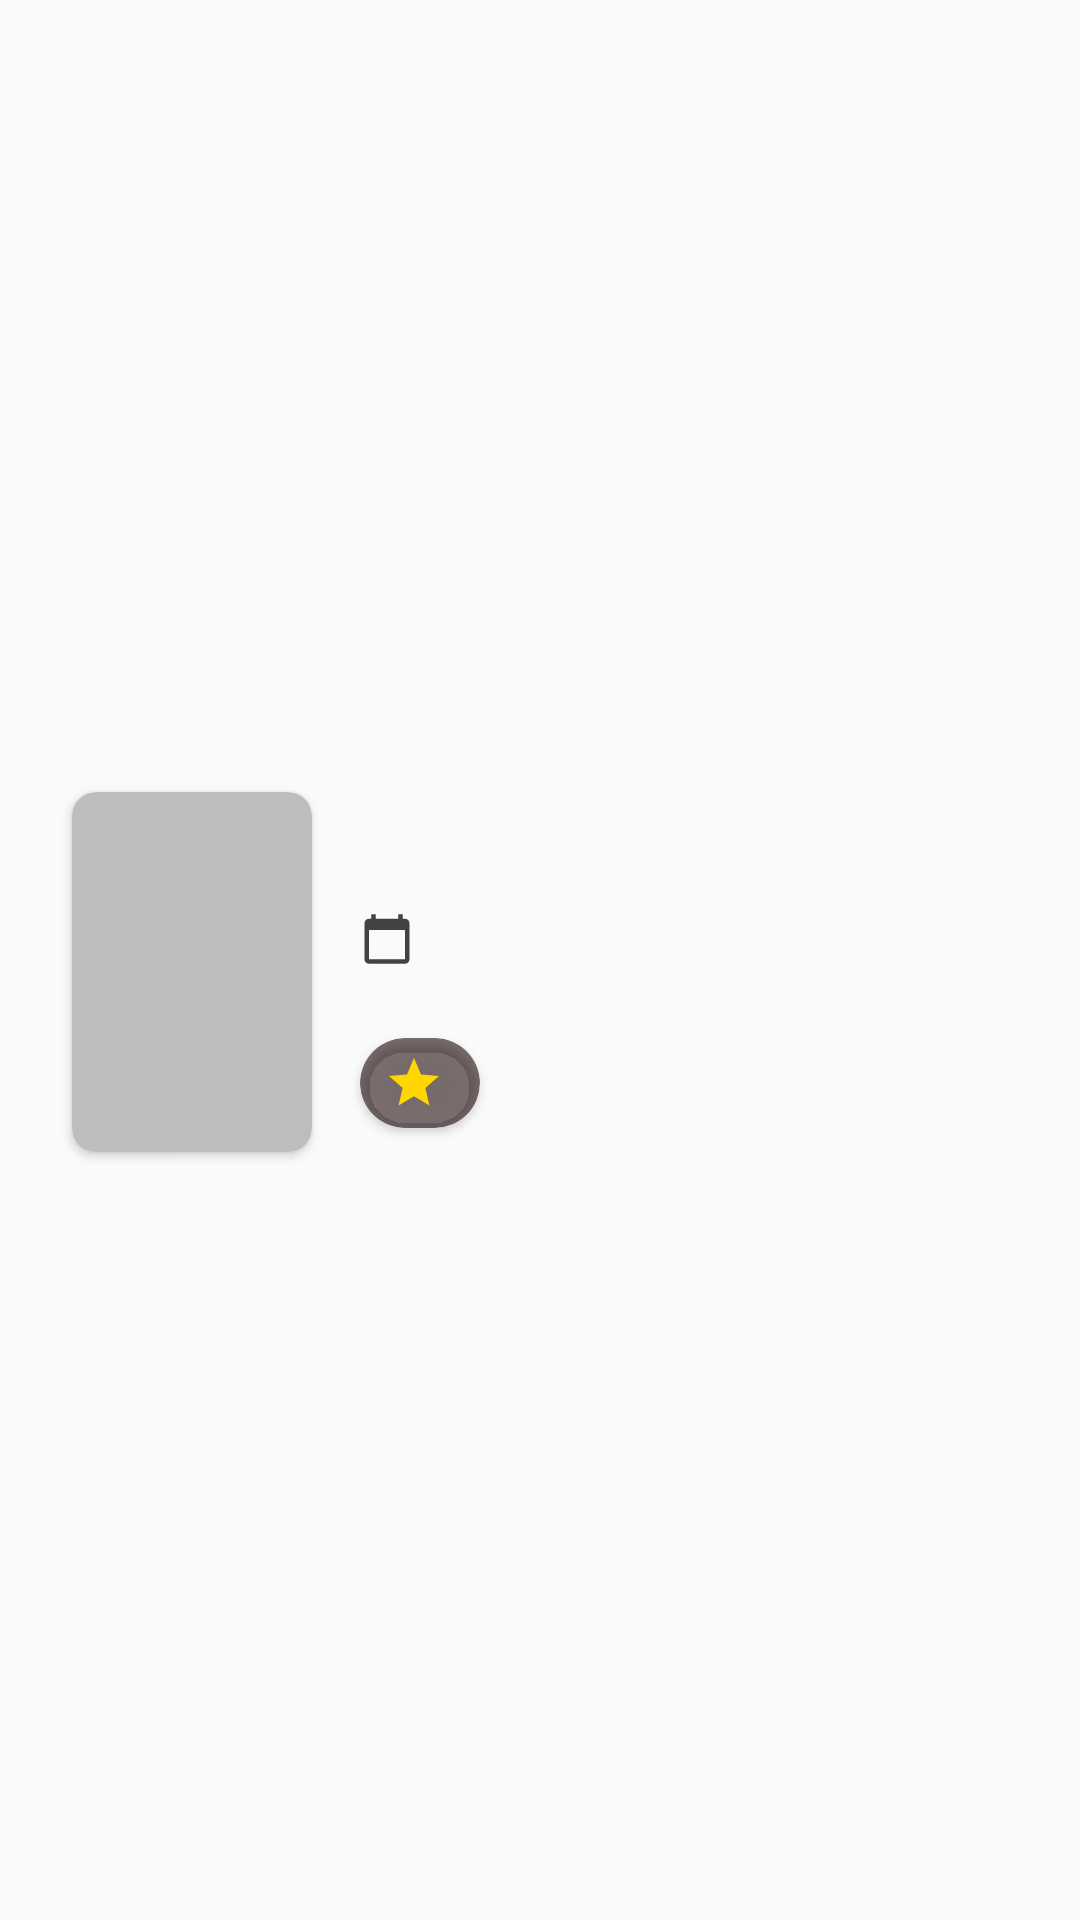

Point at icon controls on the screen. Image size 1080*1920, points as (x,y).
calendar today: (387,939)
star: (414,1081)
